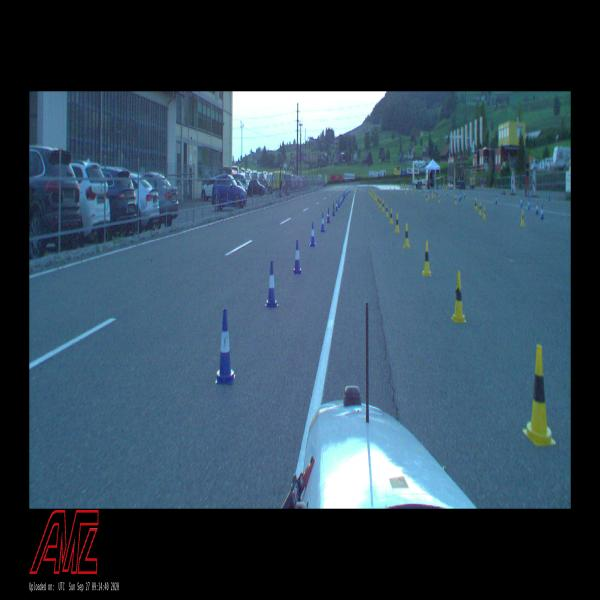blue_cone: (215, 309, 236, 384), (265, 261, 279, 307), (293, 240, 302, 274), (309, 222, 316, 246), (321, 213, 325, 232), (326, 208, 330, 223), (540, 206, 544, 219), (336, 200, 338, 212), (332, 204, 334, 216)
yellow_cone: (523, 344, 556, 446), (452, 270, 466, 322), (422, 241, 431, 276), (403, 223, 410, 249), (394, 215, 399, 232), (520, 210, 524, 226), (389, 208, 393, 224), (478, 202, 482, 215), (385, 204, 388, 217), (482, 206, 485, 219), (382, 200, 385, 212), (379, 198, 381, 208)
